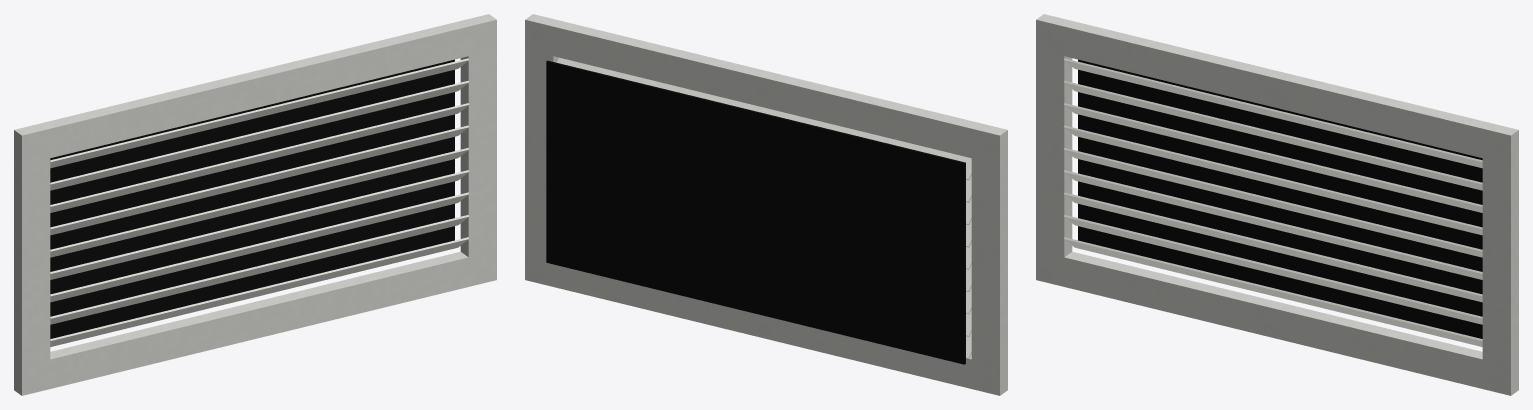
The model's file is WallVent.obj.
3 views of the same model, side by side, from view 1: azimuth 30°, elevation 25°; view 2: azimuth 150°, elevation 25°; view 3: azimuth 330°, elevation 25° (orthographic).
Parts seen in each view (by area): view 1: Grille, Duct; view 2: Duct, Grille; view 3: Grille, Duct.
Part boxes in pixels (x1=…): Grille: x1=14, y1=14, x2=496, y2=395; Duct: x1=50, y1=59, x2=454, y2=338; Duct: x1=546, y1=60, x2=965, y2=364; Grille: x1=525, y1=14, x2=1007, y2=395; Grille: x1=1036, y1=14, x2=1518, y2=395; Duct: x1=1078, y1=59, x2=1482, y2=338.
Bounding box in the file's own units: 0.42 × 0.22 × 0.0239.
2 materials, 1 textured.
